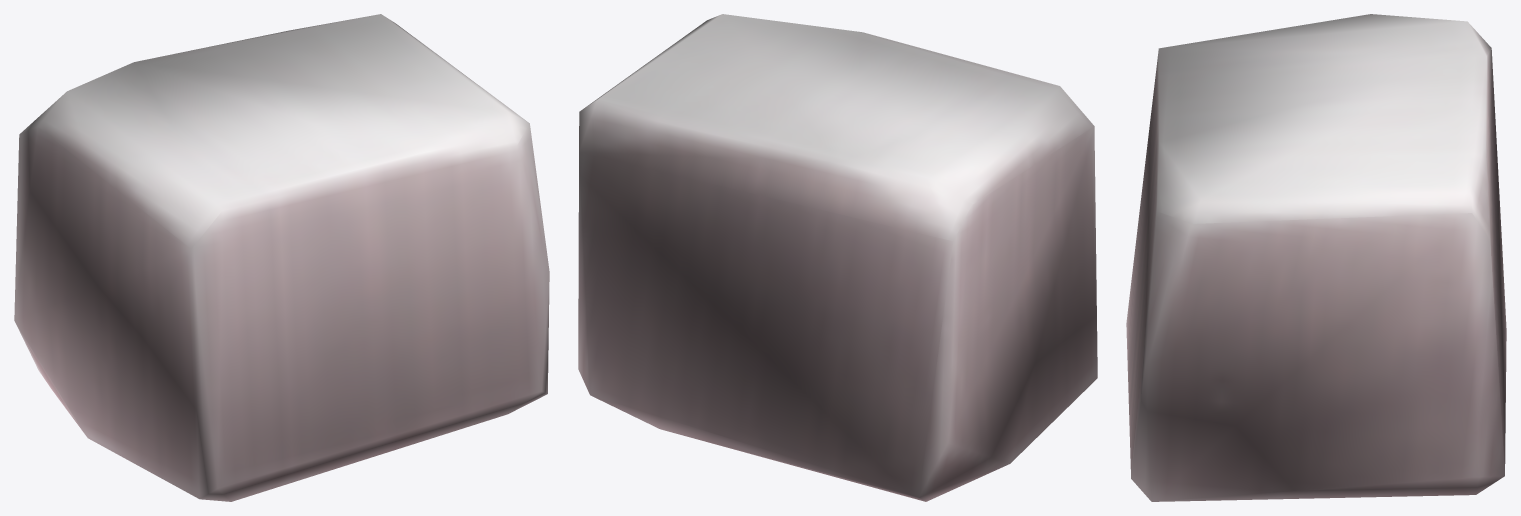
The model's file is SM_Gem_Halite_Piece_001.fbx.
The picture shows the model from 3 angles, left to right: view 1: azimuth 30°, elevation 25°; view 2: azimuth 150°, elevation 25°; view 3: azimuth 270°, elevation 25°; orthographic projection. The views are drawn at different scales.
Parts seen in each view (by area): view 1: SM_Gem_Halite_Piece_001; view 2: SM_Gem_Halite_Piece_001; view 3: SM_Gem_Halite_Piece_001.
Boxes of the visible parts, box(x1,y1,x2,y2) form: SM_Gem_Halite_Piece_001: box(14, 14, 549, 501); SM_Gem_Halite_Piece_001: box(578, 14, 1097, 501); SM_Gem_Halite_Piece_001: box(1126, 14, 1506, 501).
Size of the model in its own units: 11.96 by 9.43 by 9.7.
